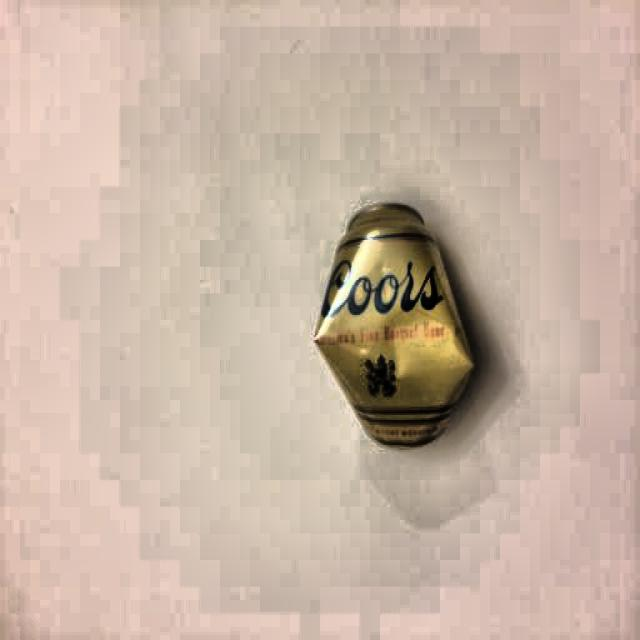metal: (315, 201, 477, 454)
